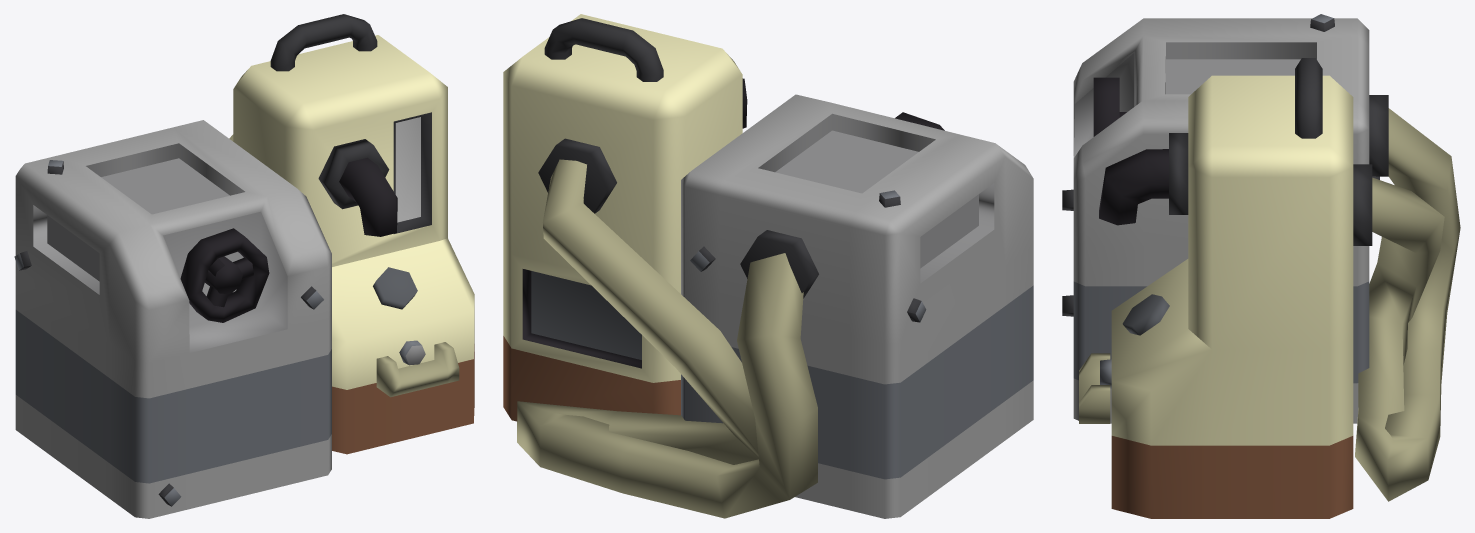
Rendered from FoamTank.glb.
3 views of the same model, side by side, from view 1: azimuth 30°, elevation 25°; view 2: azimuth 150°, elevation 25°; view 3: azimuth 270°, elevation 25° (orthographic). The views are drawn at different scales.
Parts seen in each view (by area): view 1: FoamTank; view 2: FoamTank; view 3: FoamTank.
Part boxes in pixels (<box>): FoamTank: <box>14,14,474,518</box>; FoamTank: <box>503,14,1033,518</box>; FoamTank: <box>1062,14,1460,518</box>.
Size of the model in its own units: 0.792 by 0.7241 by 0.6382.
Materials: 2 (1 with a texture image).
